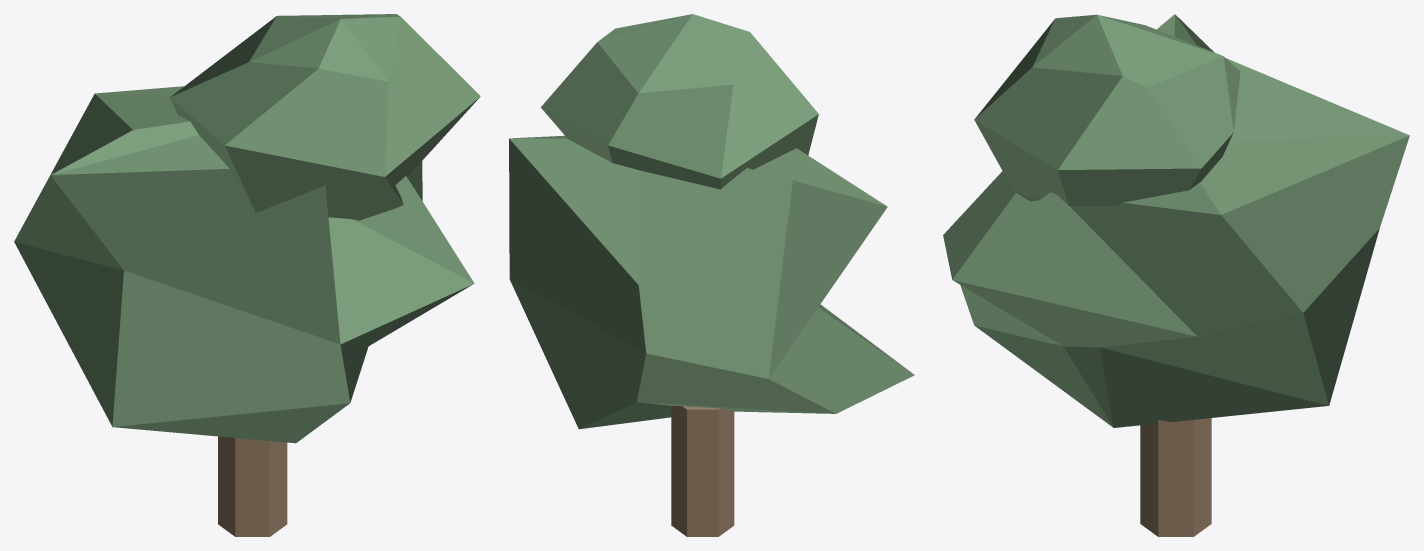
File: pinyon.glb
The picture shows the model from 3 angles, left to right: view 1: azimuth 30°, elevation 25°; view 2: azimuth 150°, elevation 25°; view 3: azimuth 270°, elevation 25°; orthographic projection. The views are drawn at different scales.
Parts seen in each view (by area): view 1: pinyon; view 2: pinyon; view 3: pinyon.
Boxes of the visible parts, left/top/right/bottom form: pinyon: left=14, top=14, right=480, bottom=536; pinyon: left=509, top=14, right=914, bottom=536; pinyon: left=943, top=14, right=1409, bottom=536.
Size of the model in its own units: 2.36 by 2.98 by 2.36.
